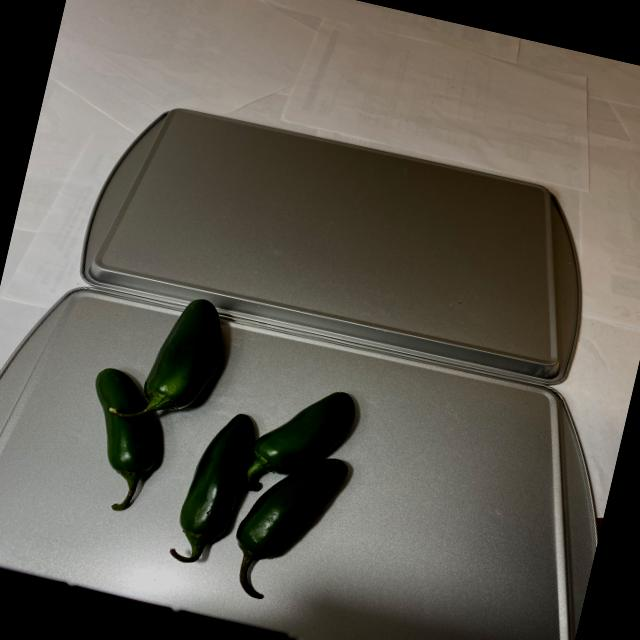chilli: (52, 274, 384, 618)
